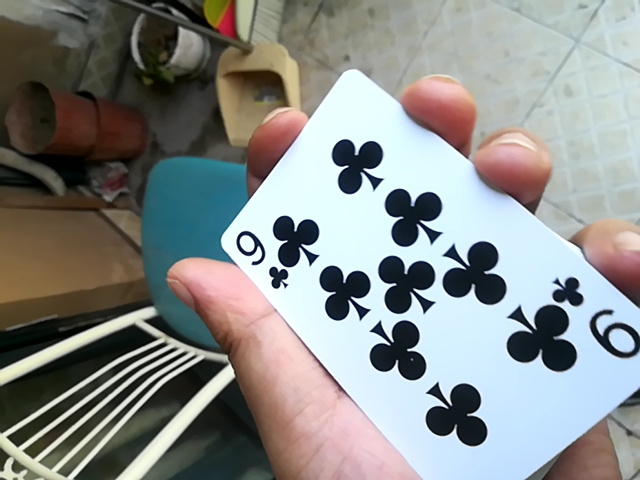mh 9: (194, 71, 626, 480)
